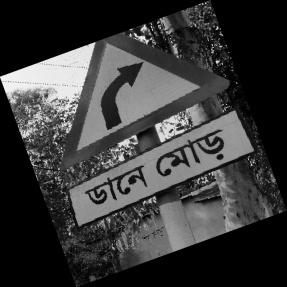Right-turn: (59, 38, 255, 223)
